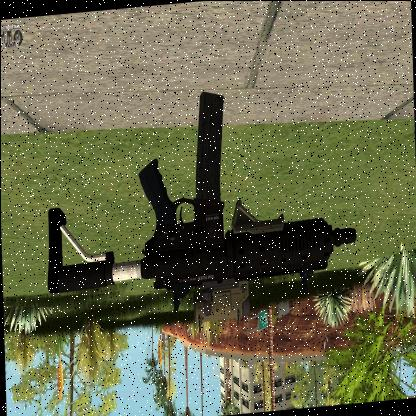rifle: (23, 63, 361, 344)
